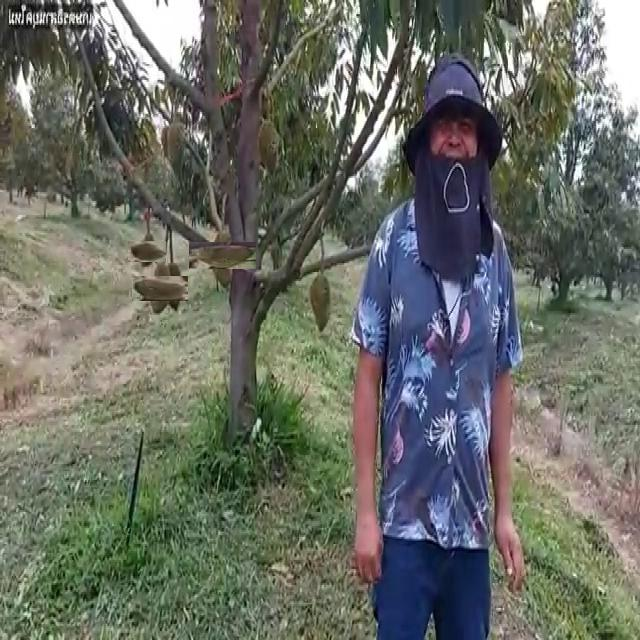durian: (199, 232, 246, 280), (308, 270, 334, 338), (140, 268, 180, 308), (258, 117, 281, 180), (163, 260, 184, 314), (132, 236, 162, 266)
